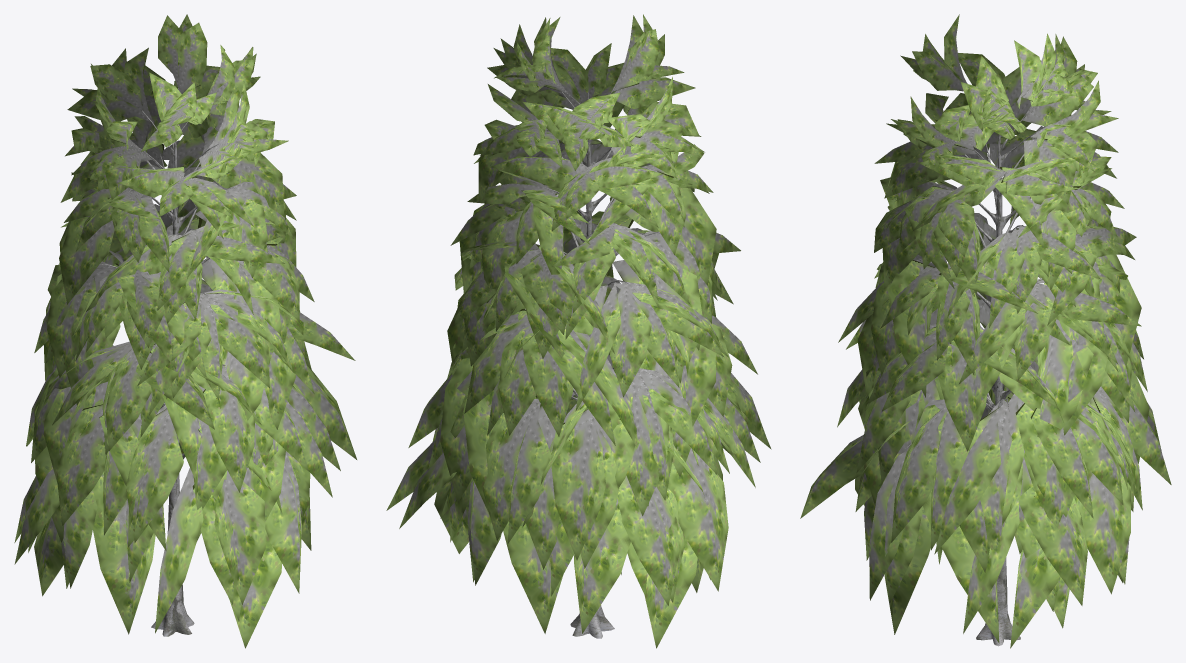
The model's file is birch.fbx.
3 renders of one model, left to right at view 1: azimuth 30°, elevation 25°; view 2: azimuth 150°, elevation 25°; view 3: azimuth 270°, elevation 25°, orthographic. The views are drawn at different scales.
Visible parts, largest first — view 1: birch leaf_1, bark11_0; view 2: birch leaf_1, bark11_0; view 3: birch leaf_1, bark11_0.
Part boxes in pixels (x1,y1,x2,y2): birch leaf_1: (14, 14, 356, 648); bark11_0: (100, 87, 238, 636); birch leaf_1: (386, 14, 771, 648); bark11_0: (536, 83, 659, 638); birch leaf_1: (800, 14, 1171, 648); bark11_0: (907, 94, 1041, 646).
Size of the model in its own units: 413 by 778 by 428.
Materials: 2 (2 with a texture image).
